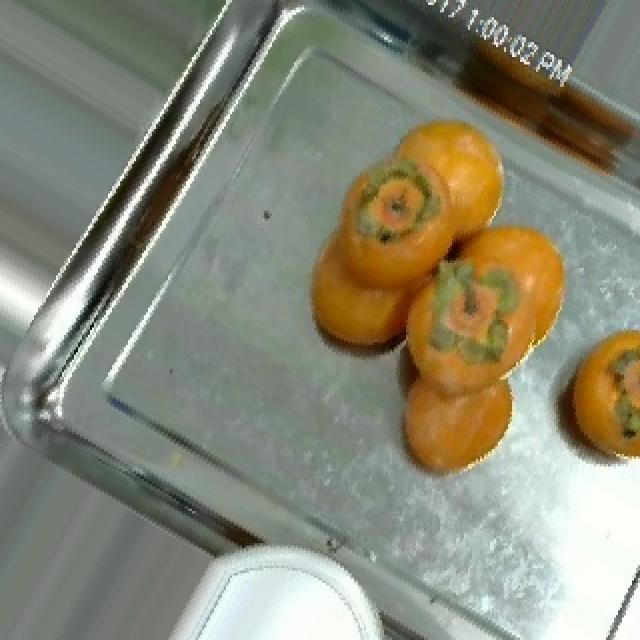Fruit: (414, 196, 600, 414), (378, 305, 546, 499), (542, 305, 640, 494)
